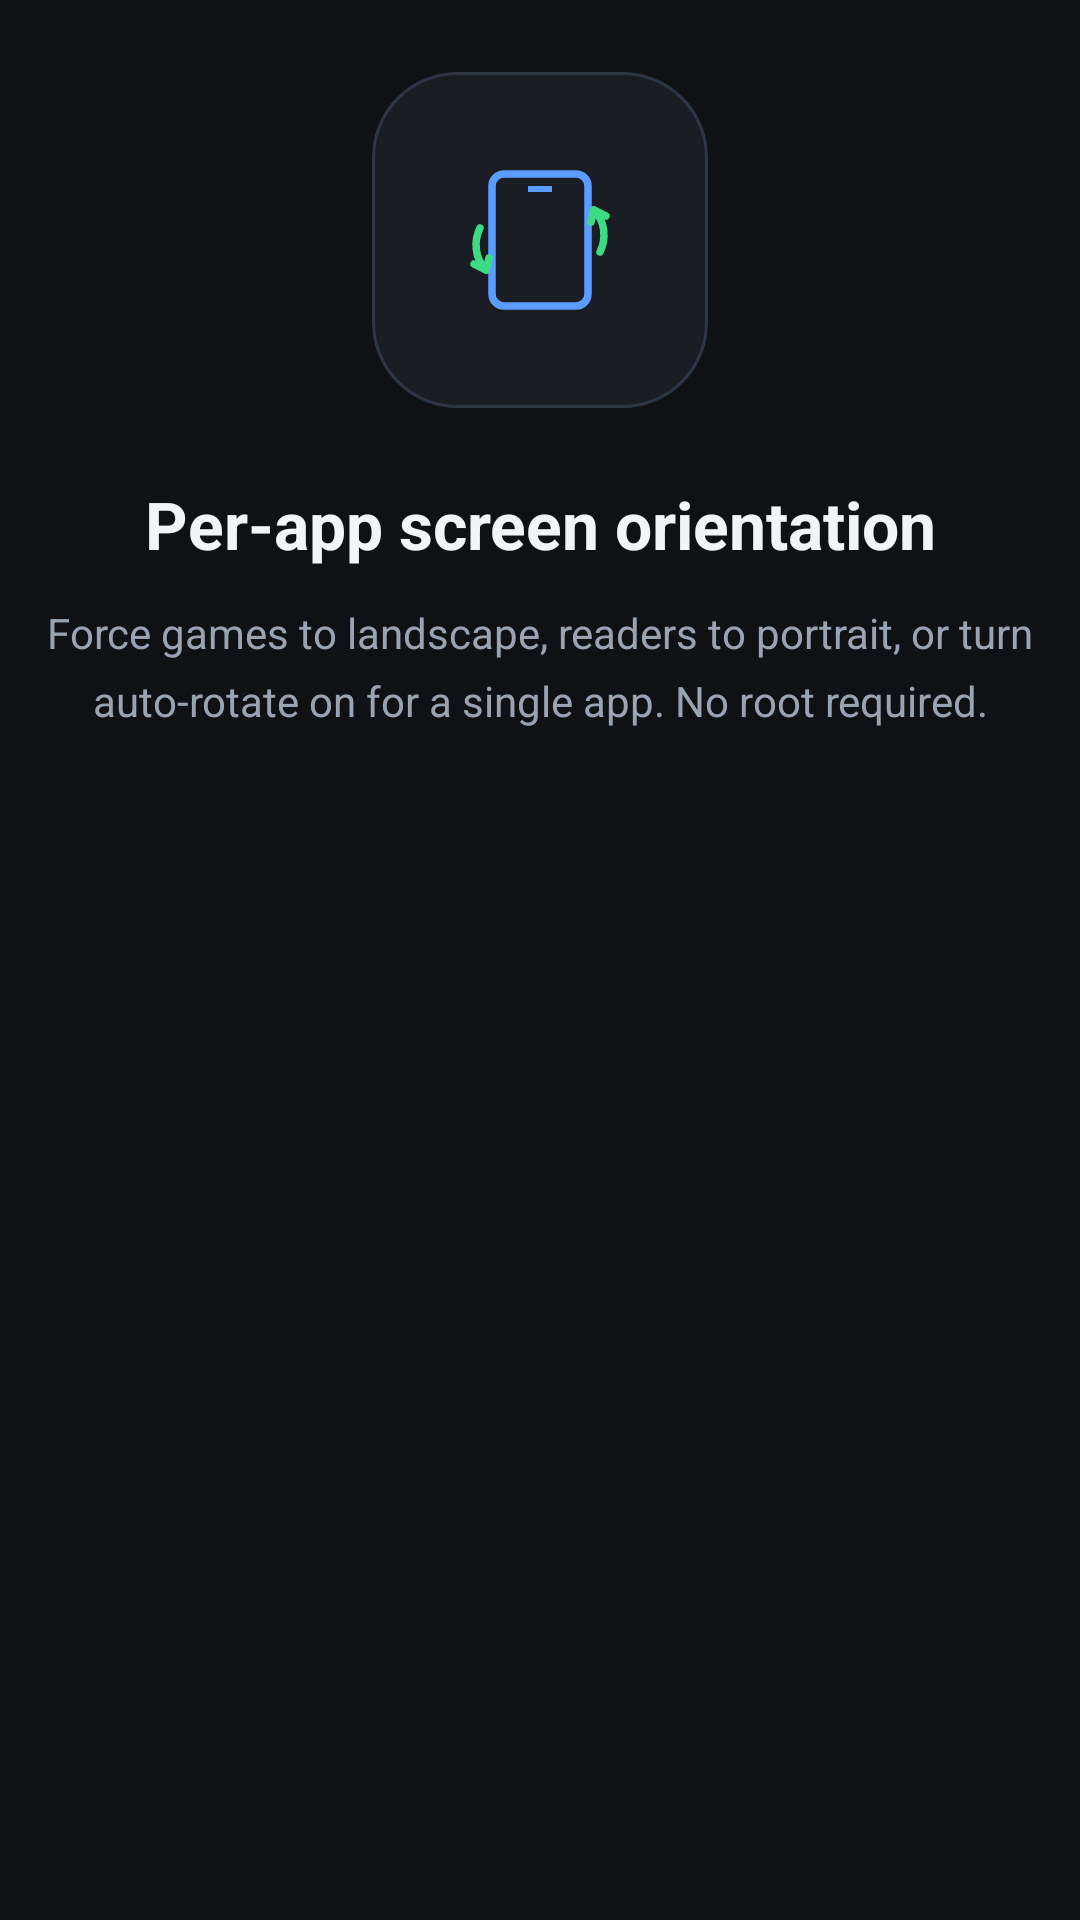

Screen size 1080×1920. Icon name, then its box in pixels as box(x1, y1, x2, y2):
onboard rotate: box(470, 170, 610, 310)
